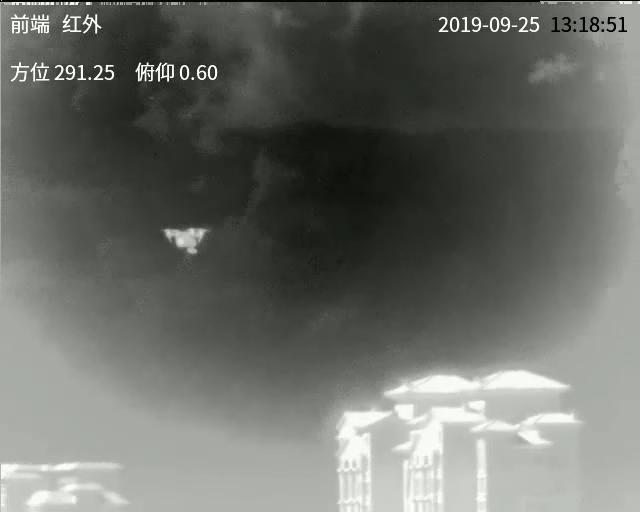uav: (161, 225, 211, 256)
